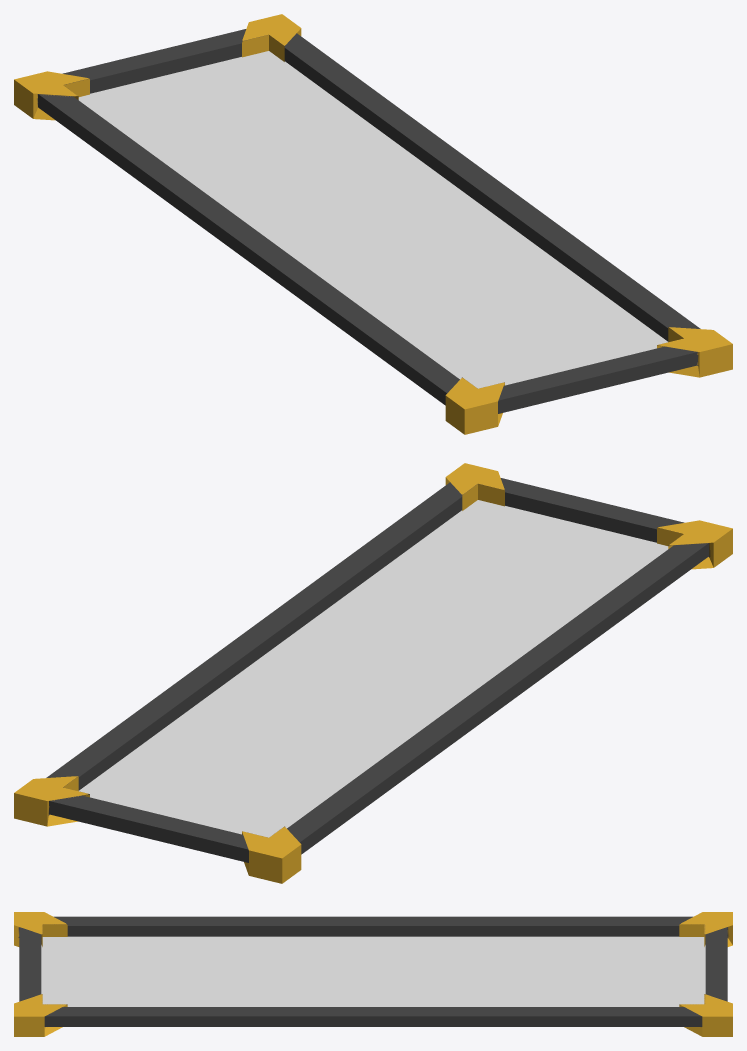
File: frame.fbx
The picture shows the model from 3 angles, top to bottom: view 1: azimuth 30°, elevation 25°; view 2: azimuth 150°, elevation 25°; view 3: azimuth 270°, elevation 25°; orthographic projection. The views are drawn at different scales.
Visible parts, largest first — view 1: Plane.001, Plane; view 2: Plane.001, Plane; view 3: Plane.001, Plane.
Part boxes in pixels (x1=…): Plane.001: x1=78, y1=51, x2=667, y2=388; Plane: x1=14, y1=14, x2=732, y2=434; Plane.001: x1=79, y1=500, x2=668, y2=837; Plane: x1=14, y1=463, x2=732, y2=883; Plane.001: x1=41, y1=936, x2=705, y2=1006; Plane: x1=14, y1=912, x2=732, y2=1036.
Size of the model in its own units: 2092 by 190 by 6092.
